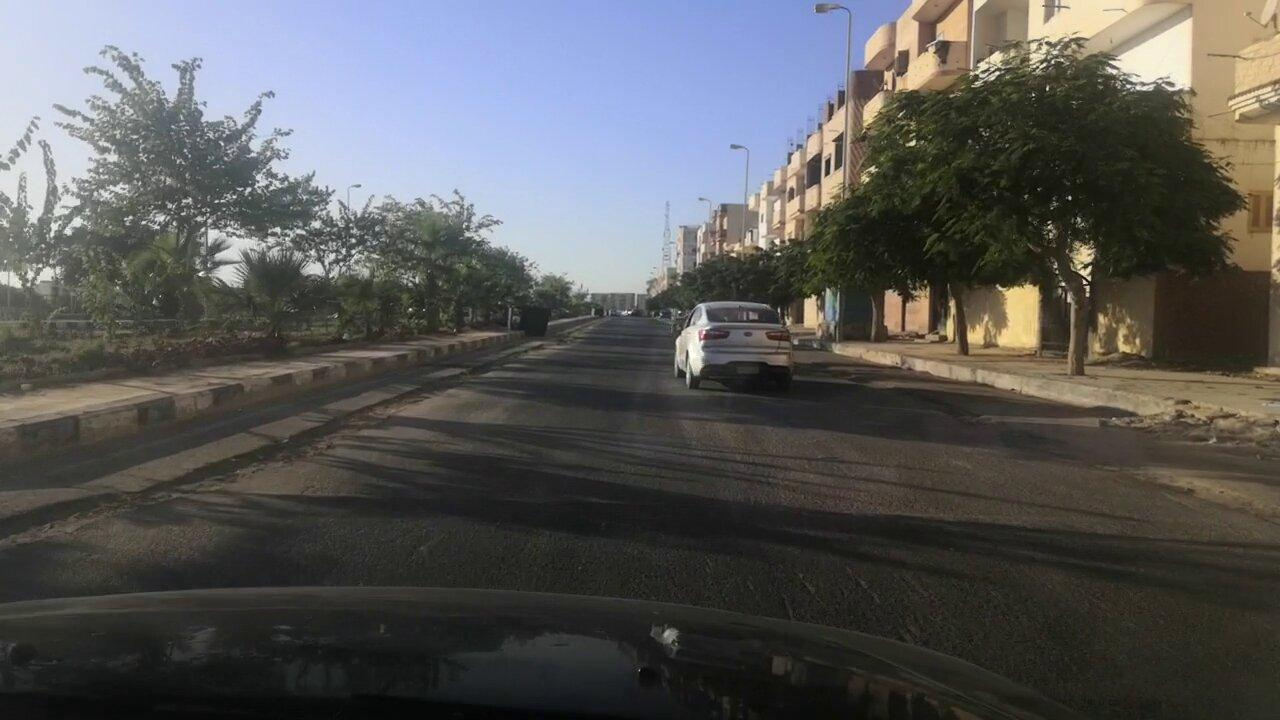Pothole: (0, 368, 445, 575)
